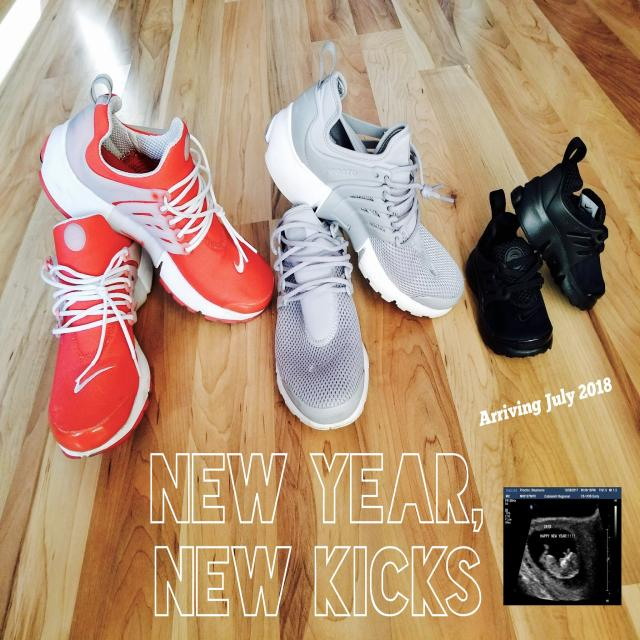shoe: (21, 59, 278, 334), (253, 62, 470, 330), (40, 193, 162, 479), (268, 192, 376, 442), (504, 133, 613, 317), (462, 178, 561, 368)
